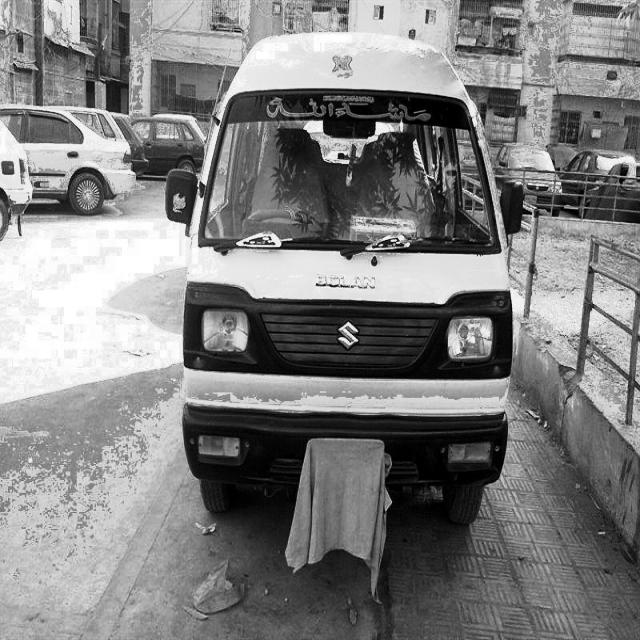LCV: (165, 31, 525, 522)
